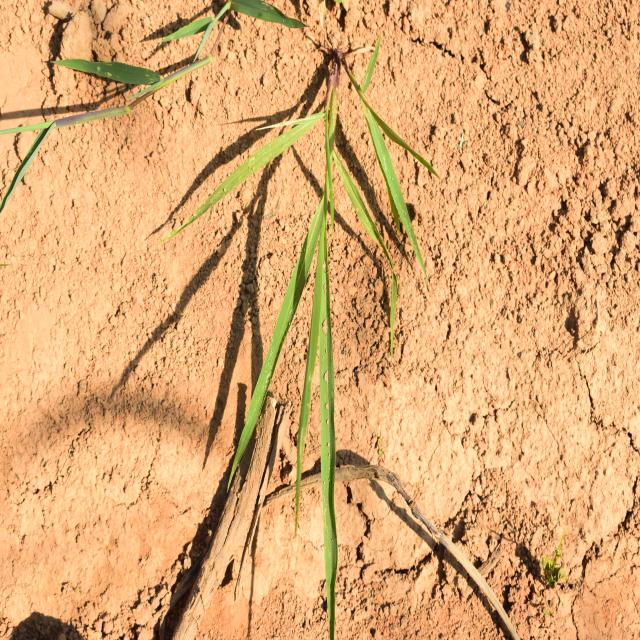green_foxtail: (199, 62, 426, 551)
